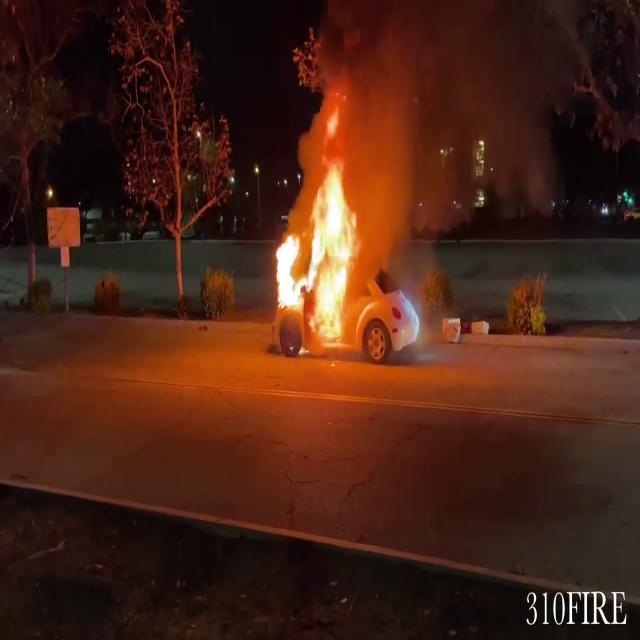Fire: (267, 153, 375, 346)
Smoke: (283, 0, 576, 228)
